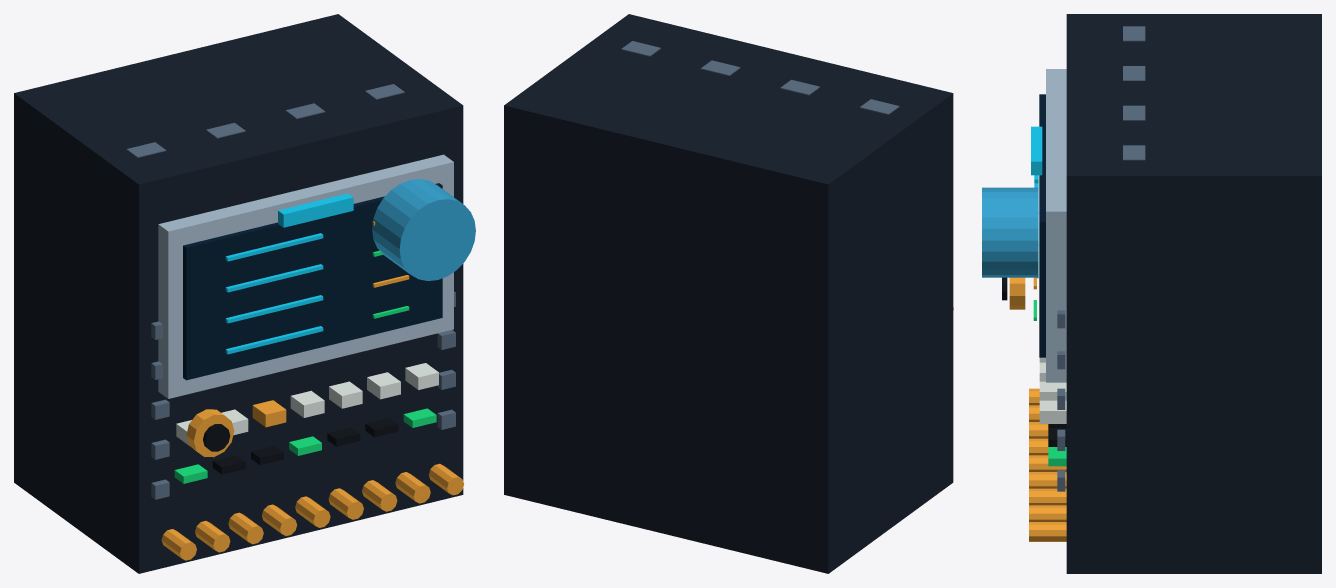
Rendered from 52_L88_VaporHumidityProbeArray.fbx.
3 renders of one model, left to right at view 1: azimuth 30°, elevation 25°; view 2: azimuth 150°, elevation 25°; view 3: azimuth 270°, elevation 25°, orthographic. The views are drawn at different scales.
Visible parts, largest first — view 1: L87_VaporHumidityProbeArray_Part_0000, L87_VaporHumidityProbeArray_Part_0002, L87_VaporHumidityProbeArray_Part_0001, L87_VaporHumidityProbeArray_Part_0009, L87_VaporHumidityProbeArray_Part_0004, L87_VaporHumidityProbeArray_Part_0008, L87_VaporHumidityProbeArray_Part_0006, L87_VaporHumidityProbeArray_Part_0003, L87_VaporHumidityProbeArray_Part_0007, L87_VaporHumidityProbeArray_Part_0005, L87_VaporHumidityProbeArray_Part_0010, L87_VaporHumidityProbeArray_Part_0011 (+1 smaller); view 2: L87_VaporHumidityProbeArray_Part_0000, L87_VaporHumidityProbeArray_Part_0008; view 3: L87_VaporHumidityProbeArray_Part_0000, L87_VaporHumidityProbeArray_Part_0001, L87_VaporHumidityProbeArray_Part_0009, L87_VaporHumidityProbeArray_Part_0004, L87_VaporHumidityProbeArray_Part_0008, L87_VaporHumidityProbeArray_Part_0002, L87_VaporHumidityProbeArray_Part_0006, L87_VaporHumidityProbeArray_Part_0010, L87_VaporHumidityProbeArray_Part_0011, L87_VaporHumidityProbeArray_Part_0005.
Boxes of the visible parts, left/top/right/bottom form: L87_VaporHumidityProbeArray_Part_0000: left=14, top=14, right=463, bottom=573; L87_VaporHumidityProbeArray_Part_0002: left=183, top=183, right=442, bottom=380; L87_VaporHumidityProbeArray_Part_0001: left=158, top=154, right=453, bottom=398; L87_VaporHumidityProbeArray_Part_0009: left=372, top=179, right=475, bottom=280; L87_VaporHumidityProbeArray_Part_0004: left=161, top=221, right=464, bottom=560; L87_VaporHumidityProbeArray_Part_0008: left=126, top=84, right=455, bottom=499; L87_VaporHumidityProbeArray_Part_0006: left=176, top=363, right=438, bottom=445; L87_VaporHumidityProbeArray_Part_0003: left=225, top=233, right=323, bottom=354; L87_VaporHumidityProbeArray_Part_0007: left=212, top=417, right=398, bottom=474; L87_VaporHumidityProbeArray_Part_0005: left=174, top=250, right=436, bottom=483; L87_VaporHumidityProbeArray_Part_0010: left=278, top=193, right=353, bottom=227; L87_VaporHumidityProbeArray_Part_0011: left=186, top=409, right=234, bottom=457; L87_VaporHumidityProbeArray_Part_0000: left=504, top=14, right=953, bottom=573; L87_VaporHumidityProbeArray_Part_0008: left=621, top=41, right=899, bottom=114; L87_VaporHumidityProbeArray_Part_0000: left=1066, top=14, right=1321, bottom=573; L87_VaporHumidityProbeArray_Part_0001: left=1046, top=69, right=1066, bottom=382; L87_VaporHumidityProbeArray_Part_0009: left=982, top=187, right=1038, bottom=277; L87_VaporHumidityProbeArray_Part_0004: left=1029, top=277, right=1066, bottom=541; L87_VaporHumidityProbeArray_Part_0008: left=1057, top=26, right=1145, bottom=491; L87_VaporHumidityProbeArray_Part_0002: left=1039, top=94, right=1045, bottom=357; L87_VaporHumidityProbeArray_Part_0006: left=1039, top=357, right=1066, bottom=423; L87_VaporHumidityProbeArray_Part_0010: left=1031, top=126, right=1042, bottom=175; L87_VaporHumidityProbeArray_Part_0011: left=1009, top=277, right=1025, bottom=309; L87_VaporHumidityProbeArray_Part_0005: left=1033, top=300, right=1066, bottom=466.
Bounding box in the file's own units: 104 × 120 × 92.31.
